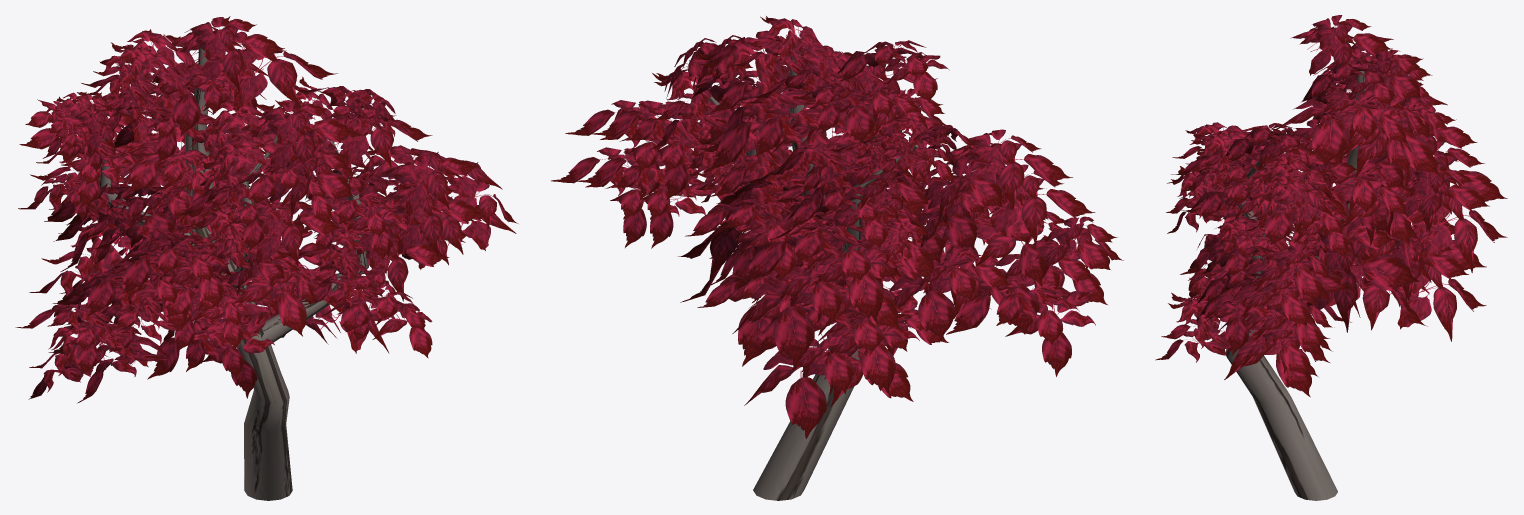
Rendered from arbolsangrante.fbx.
The picture shows the model from 3 angles, left to right: view 1: azimuth 30°, elevation 25°; view 2: azimuth 150°, elevation 25°; view 3: azimuth 270°, elevation 25°; orthographic projection. The views are drawn at different scales.
Parts seen in each view (by area): view 1: pPlane135; view 2: pPlane135; view 3: pPlane135.
Part boxes in pixels (box(x1,y1,x2,y2)): pPlane135: box(15, 16, 518, 500); pPlane135: box(551, 16, 1123, 500); pPlane135: box(1155, 15, 1507, 500).
Bounding box in the file's own units: 7.63 × 6.71 × 5.14.
